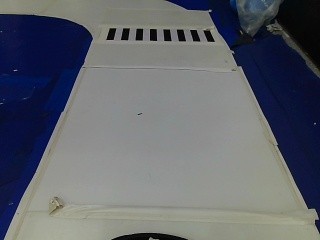crosswalk: (99, 22, 217, 45)
